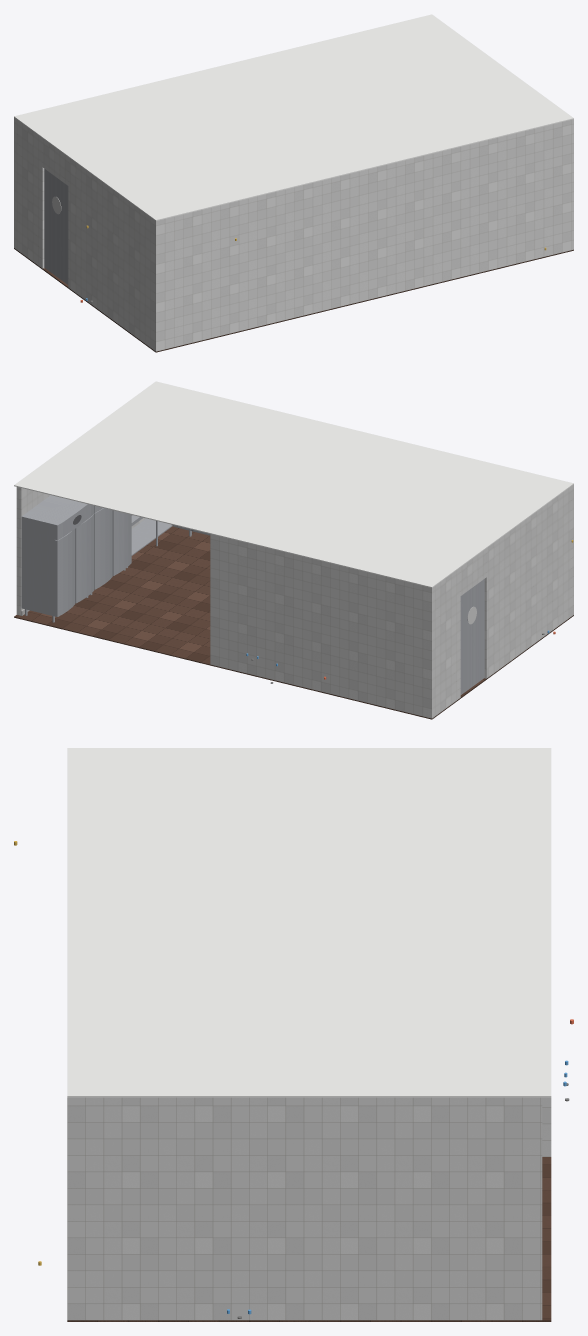
Rendered from cocina_quest_5c03b9a42e65.glb.
3 views of the same model, one above another, from view 1: azimuth 30°, elevation 25°; view 2: azimuth 150°, elevation 25°; view 3: azimuth 270°, elevation 25° (orthographic). The views are drawn at different scales.
Parts seen in each view (by area): view 1: Pared_alicatado, Techo_blanco, Inox_puerta, Suelo_gres; view 2: Techo_blanco, Pared_alicatado, Suelo_gres, Inox, Inox_puerta; view 3: Techo_blanco, Pared_alicatado, Suelo_gres.
Part boxes in pixels (left/top/right/bottom): Pared_alicatado: left=14, top=117, right=573, bottom=351; Techo_blanco: left=14, top=14, right=573, bottom=220; Inox_puerta: left=44, top=169, right=68, bottom=284; Suelo_gres: left=14, top=248, right=573, bottom=352; Techo_blanco: left=14, top=381, right=573, bottom=587; Pared_alicatado: left=16, top=484, right=573, bottom=718; Suelo_gres: left=14, top=526, right=573, bottom=719; Inox: left=21, top=495, right=210, bottom=622; Inox_puerta: left=460, top=579, right=484, bottom=694; Techo_blanco: left=67, top=748, right=551, bottom=1097; Pared_alicatado: left=67, top=1097, right=551, bottom=1320; Suelo_gres: left=67, top=1157, right=551, bottom=1321.
Size of the model in its own units: 10.61 by 2.74 by 6.16.
Materials: 43 (7 with a texture image).
